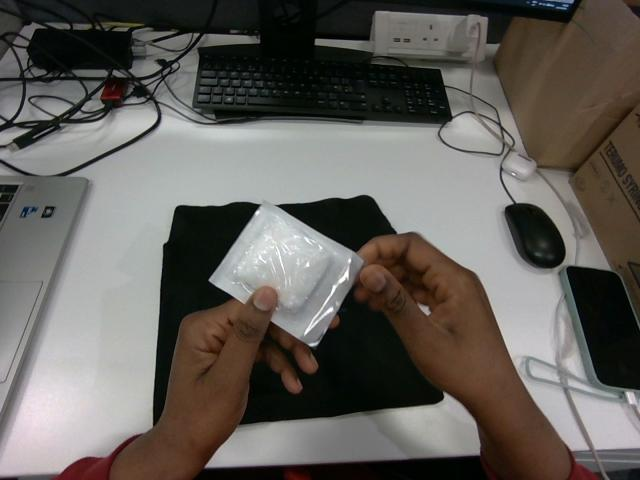gauze: (209, 202, 363, 345)
